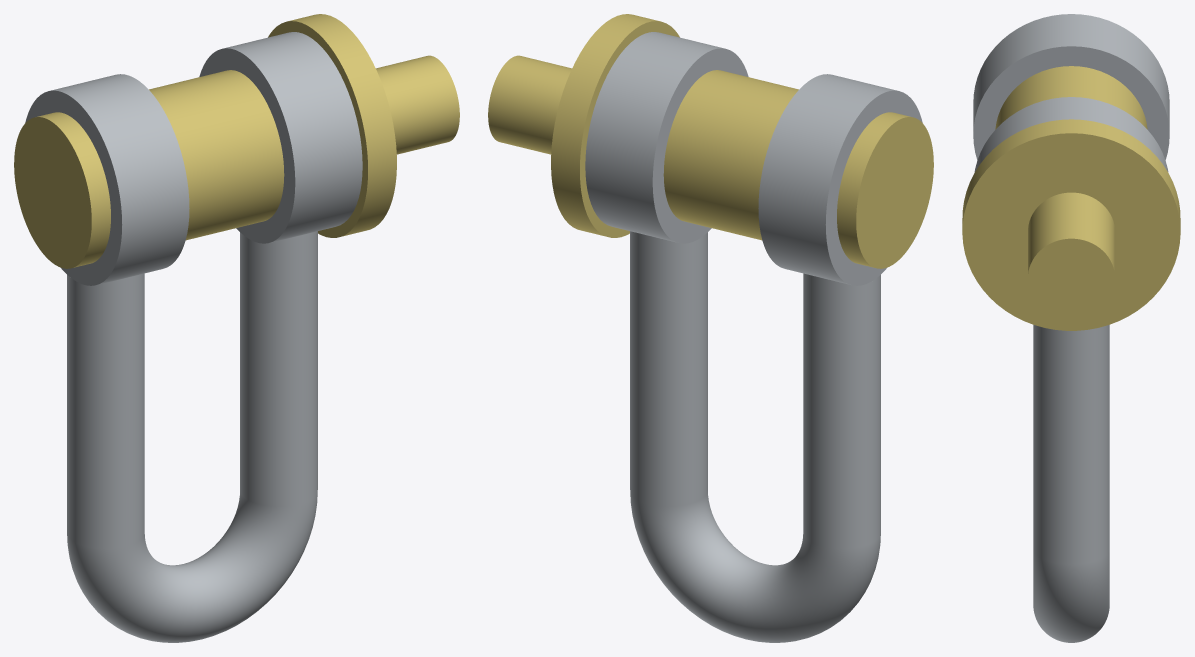
Rendered from step_01.glb.
3 views of the same model, side by side, from view 1: azimuth 30°, elevation 25°; view 2: azimuth 150°, elevation 25°; view 3: azimuth 270°, elevation 25° (orthographic).
Visible parts, largest first — view 1: part__bow shackle, part__load pin; view 2: part__bow shackle, part__load pin; view 3: part__load pin, part__bow shackle.
Boxes of the visible parts, bbox=[...] form: part__bow shackle: bbox=[25, 32, 362, 642]; part__load pin: bbox=[14, 14, 459, 268]; part__bow shackle: bbox=[585, 32, 922, 642]; part__load pin: bbox=[488, 14, 933, 268]; part__load pin: bbox=[962, 66, 1180, 330]; part__bow shackle: bbox=[973, 14, 1169, 642].
Size of the model in its own units: 80 by 115 by 39.99.
